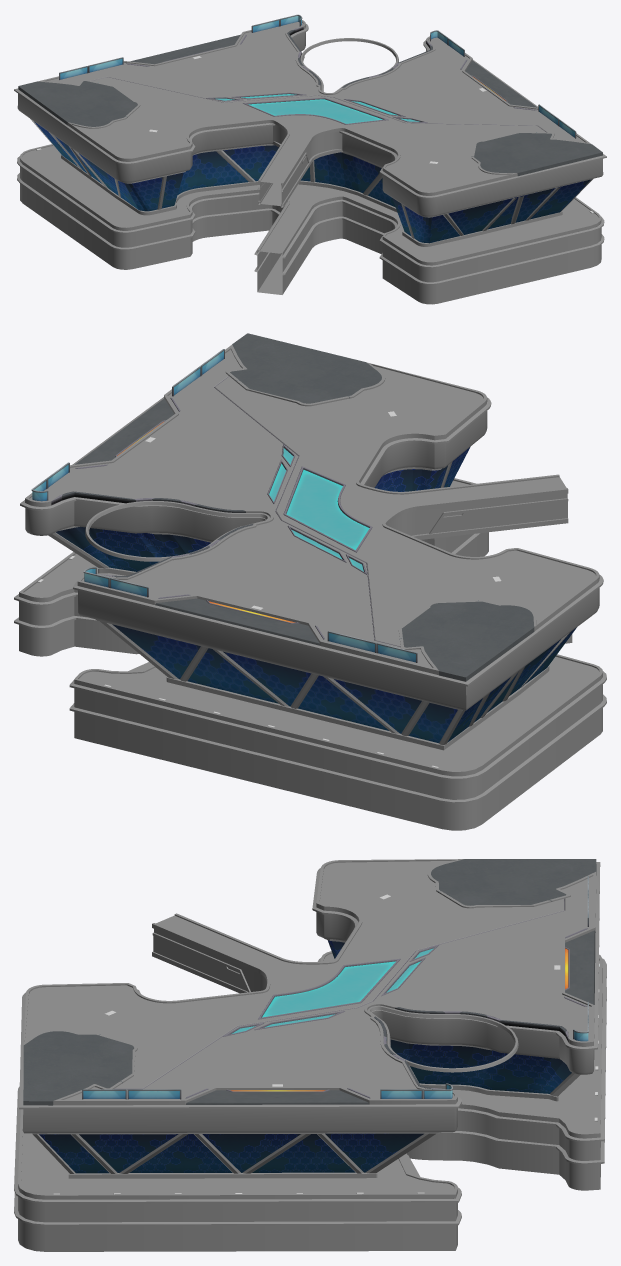
Rendered from mesh_1002_yjy_sd006.FBX.
The picture shows the model from 3 angles, top to bottom: view 1: azimuth 30°, elevation 25°; view 2: azimuth 150°, elevation 25°; view 3: azimuth 270°, elevation 25°; orthographic projection. The views are drawn at different scales.
Visible parts, largest first — view 1: mesh_1002_zc_yjy01, mesh_1002_yjy_sd007_b, mesh_1002_yjy_sd007_f, mesh_1002_yjy_sd007_c, mesh_1002_yjy_sd007_e, mesh_1002_yjy_sd007_d; view 2: mesh_1002_zc_yjy01, mesh_1002_yjy_sd007_b, mesh_1002_yjy_sd007_f, mesh_1002_yjy_sd007_c, mesh_1002_yjy_sd007_e, mesh_1002_yjy_sd007_d; view 3: mesh_1002_zc_yjy01, mesh_1002_yjy_sd007_b, mesh_1002_yjy_sd007_f, mesh_1002_yjy_sd007_c, mesh_1002_yjy_sd007_d, mesh_1002_yjy_sd007_e.
Boxes of the visible parts, x1,y1,x2,y2 form: mesh_1002_zc_yjy01: [14, 20, 606, 304]; mesh_1002_yjy_sd007_b: [18, 14, 602, 243]; mesh_1002_yjy_sd007_f: [69, 22, 569, 137]; mesh_1002_yjy_sd007_c: [92, 77, 545, 206]; mesh_1002_yjy_sd007_e: [22, 149, 596, 261]; mesh_1002_yjy_sd007_d: [47, 77, 584, 191]; mesh_1002_zc_yjy01: [14, 344, 606, 830]; mesh_1002_yjy_sd007_b: [31, 333, 576, 767]; mesh_1002_yjy_sd007_f: [30, 364, 414, 660]; mesh_1002_yjy_sd007_c: [215, 376, 567, 646]; mesh_1002_yjy_sd007_e: [34, 480, 599, 770]; mesh_1002_yjy_sd007_d: [217, 349, 595, 667]; mesh_1002_zc_yjy01: [14, 859, 606, 1251]; mesh_1002_yjy_sd007_b: [23, 859, 599, 1194]; mesh_1002_yjy_sd007_f: [97, 891, 592, 1099]; mesh_1002_yjy_sd007_c: [99, 892, 563, 1088]; mesh_1002_yjy_sd007_d: [24, 860, 593, 1099]; mesh_1002_yjy_sd007_e: [21, 953, 587, 1191].
Bounding box in the file's own units: 8159 × 2371 × 8159.
6 materials, 1 textured.
